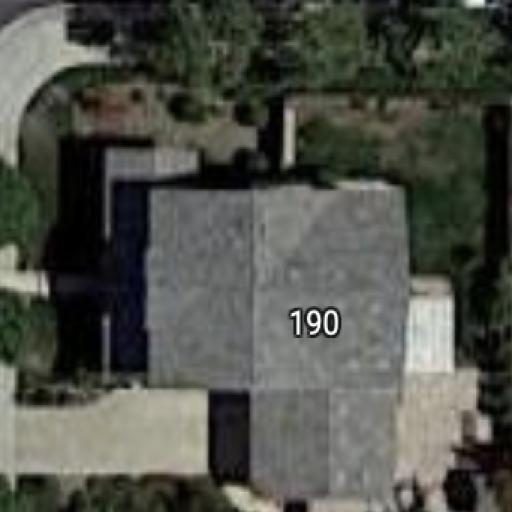Slope-Roof: (144, 187, 402, 401), (249, 402, 397, 498)
